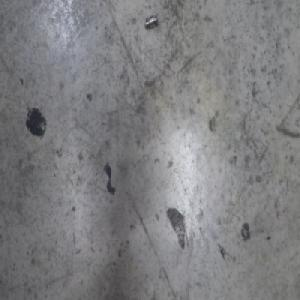Bolt: (143, 11, 158, 29)
